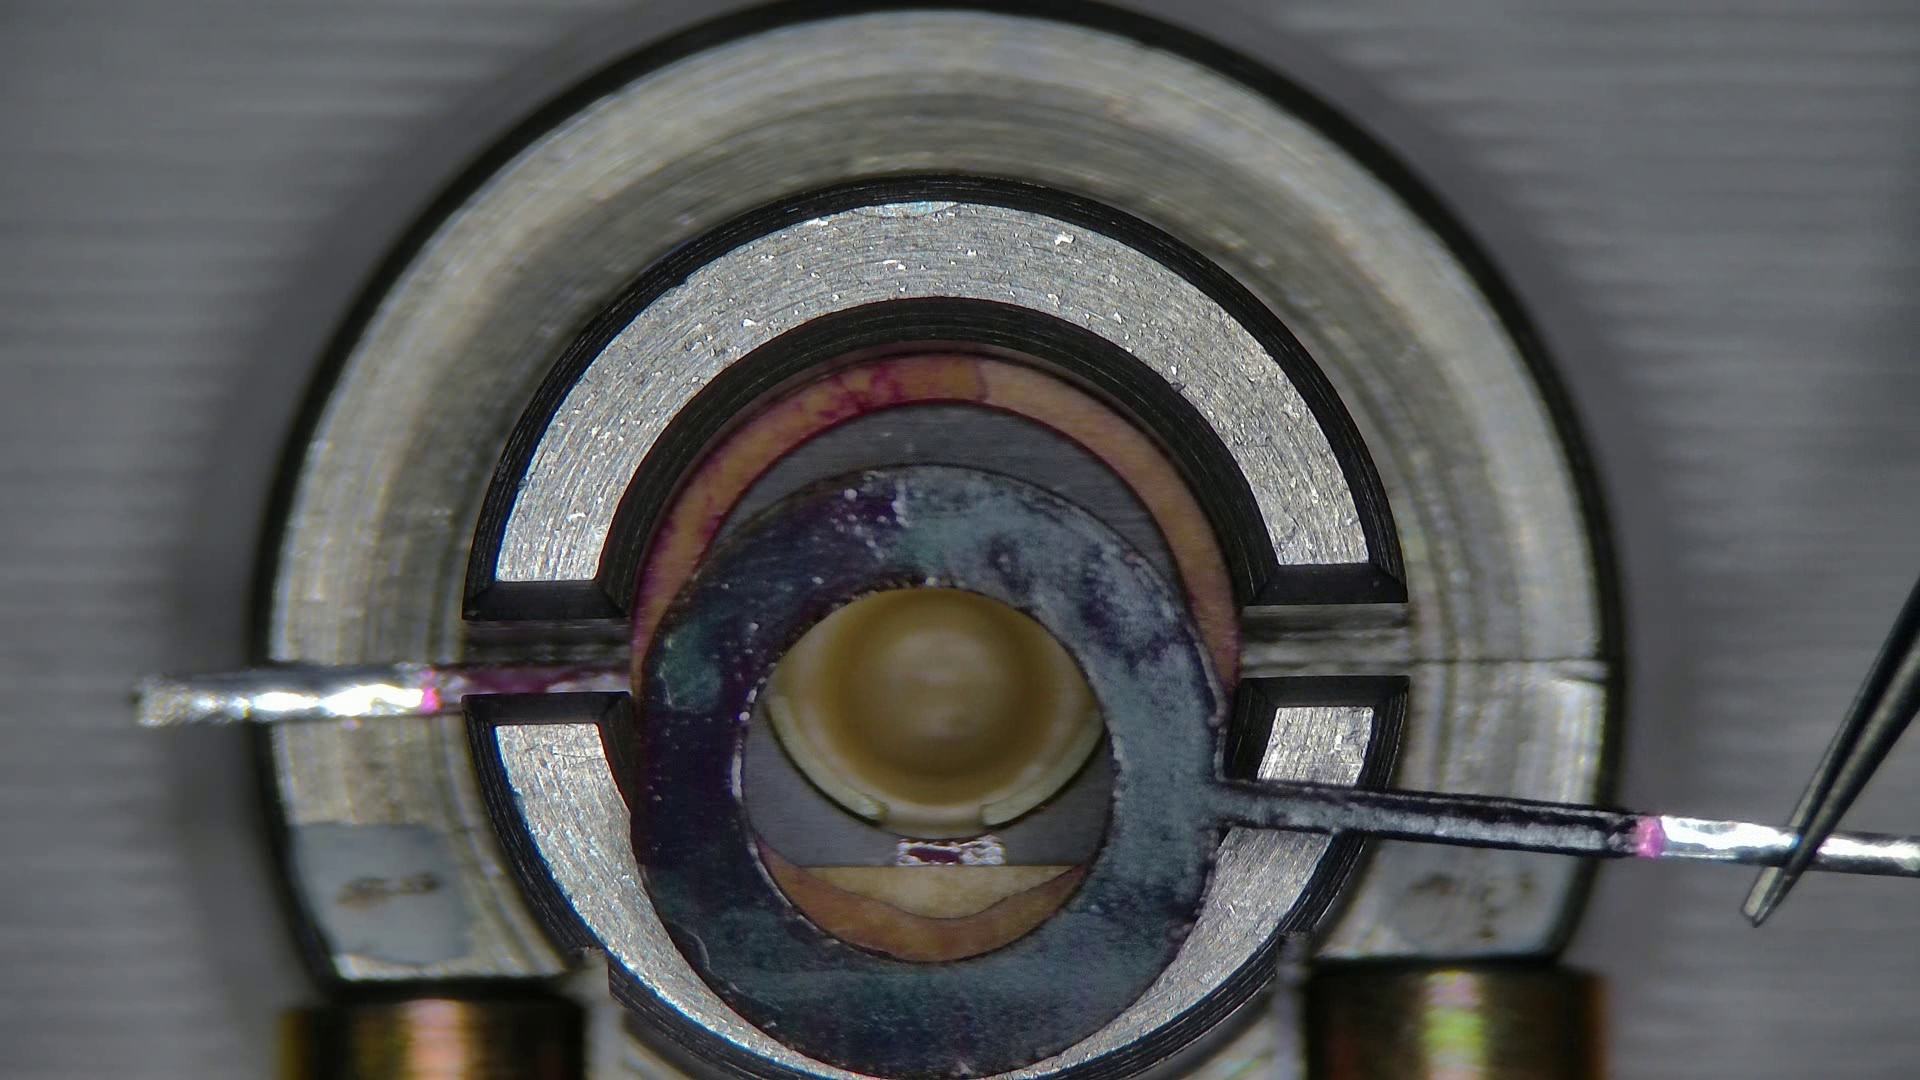GreyOring: (630, 351, 1236, 692), (767, 856, 1087, 960)
YellowOring: (625, 469, 1216, 1065), (725, 404, 1175, 564), (736, 707, 1112, 866)
redOring: (808, 862, 1064, 916)
